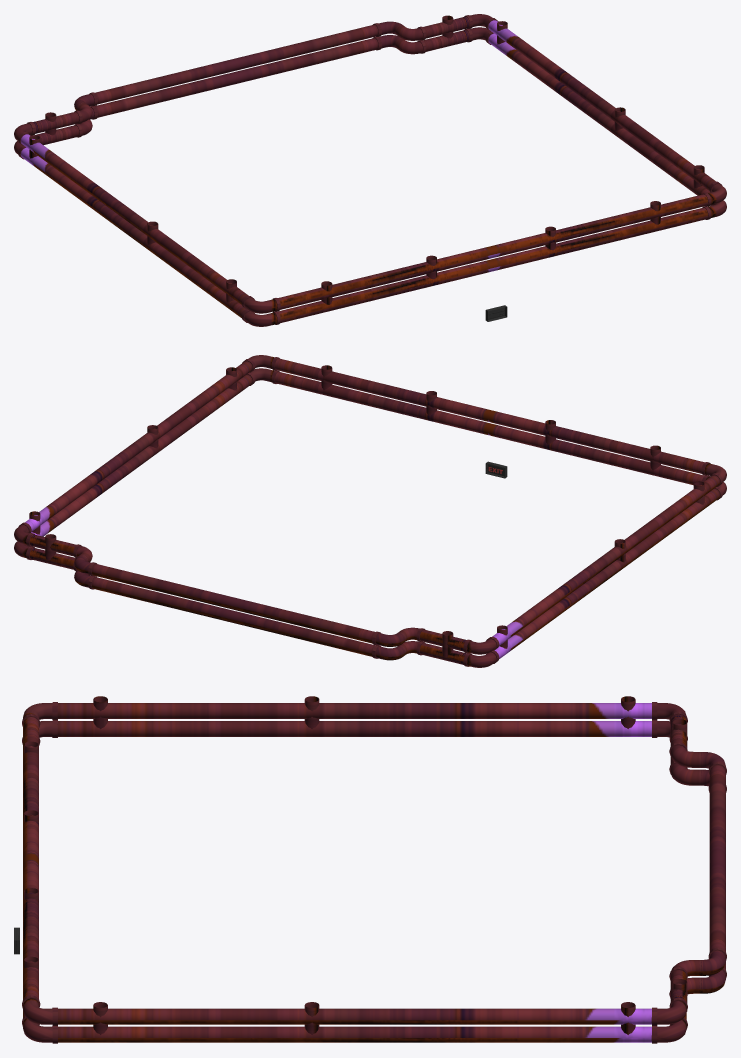
File: Pipes_exit.fbx
3 renders of one model, top to bottom at view 1: azimuth 30°, elevation 25°; view 2: azimuth 150°, elevation 25°; view 3: azimuth 270°, elevation 25°, orthographic. The views are drawn at different scales.
Parts seen in each view (by area): view 1: BIG_P; view 2: BIG_P; view 3: BIG_P.
Part boxes in pixels (x1,y1,x2,y2): BIG_P: (14,14,726,326); BIG_P: (14,355,726,667); BIG_P: (22,696,726,1043).
Size of the model in its own units: 45.14 by 6.44 by 43.38.
1 material, 1 textured.
